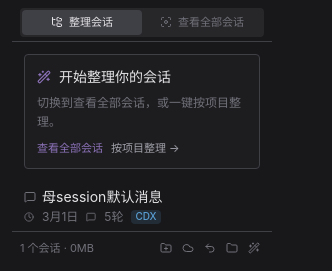
设置页的视图偏好会驱动侧边栏 › 没有本地镜头偏好时采用默认分组
This screenshot has width=332, height=271.
Click the tab "查看全部会话".
click(202, 22)  # box x1=142 y1=10 x2=262 y2=34
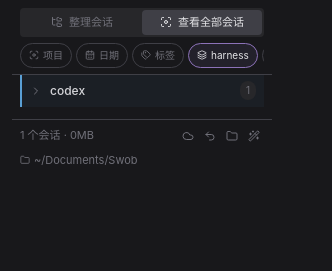
Check: the element showing "codex 1" is shown, box x1=20 y1=74 x2=264 y2=106
